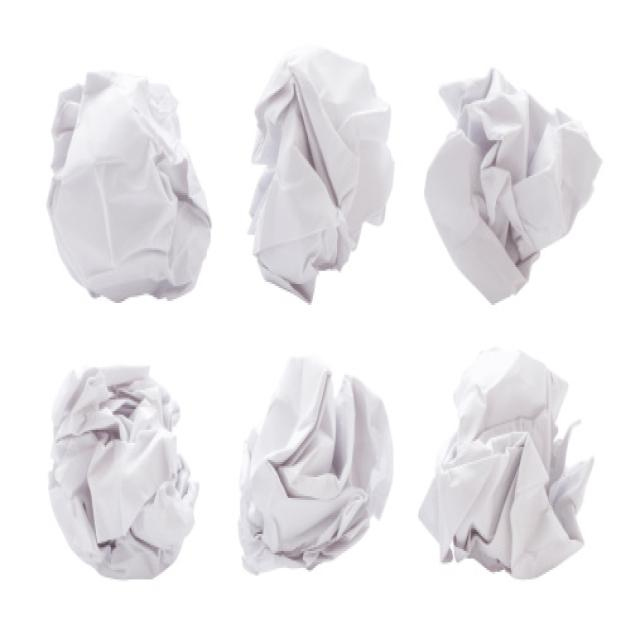paper: (425, 37, 618, 307), (39, 46, 223, 314), (412, 342, 612, 588), (237, 35, 413, 308), (39, 353, 215, 600), (230, 350, 398, 591)
